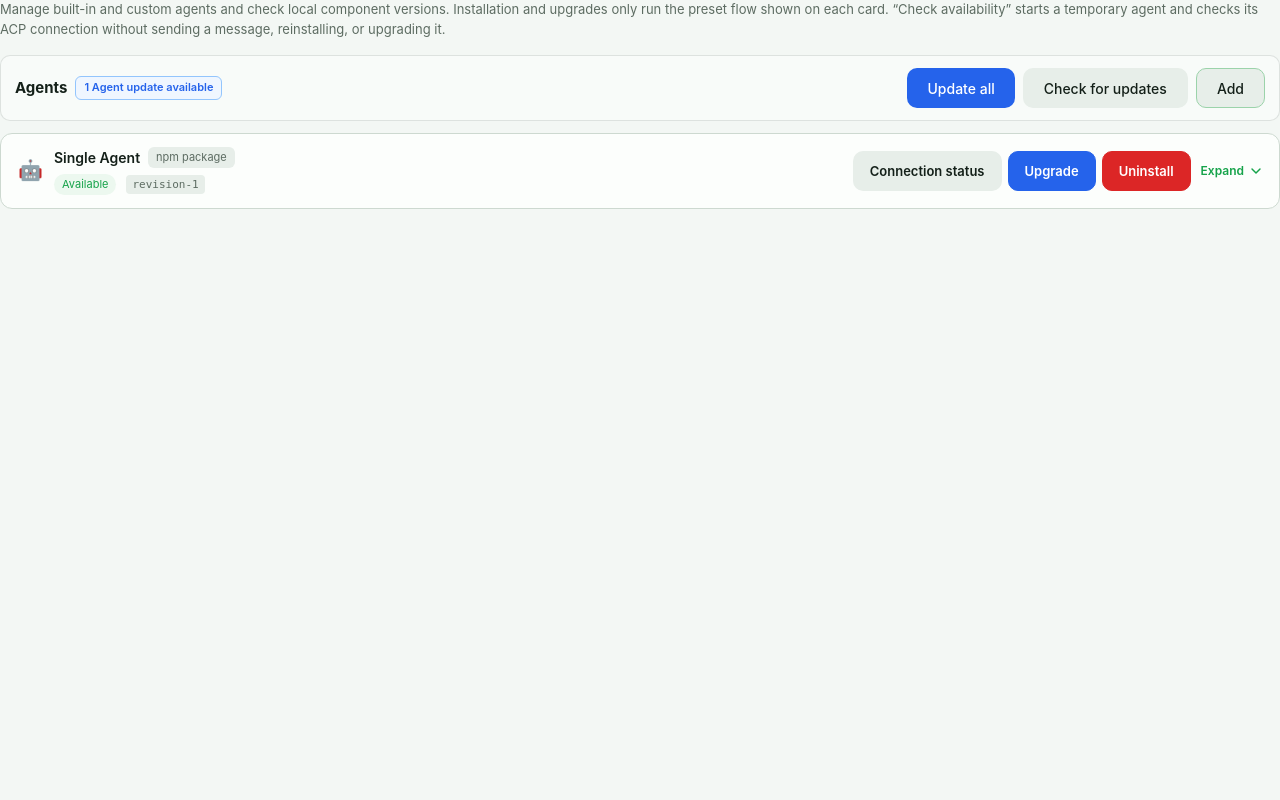
Test: AgentInstallSettings batch upgrades › refreshes single upgrades after every outcome and replaces stale results before a retry
Check: the text "Single Agent" is shown, box [54,147,140,169]
Click the button with test id "agent-install-card-toggle".
click(1232, 171)  # box [1201,163,1264,179]
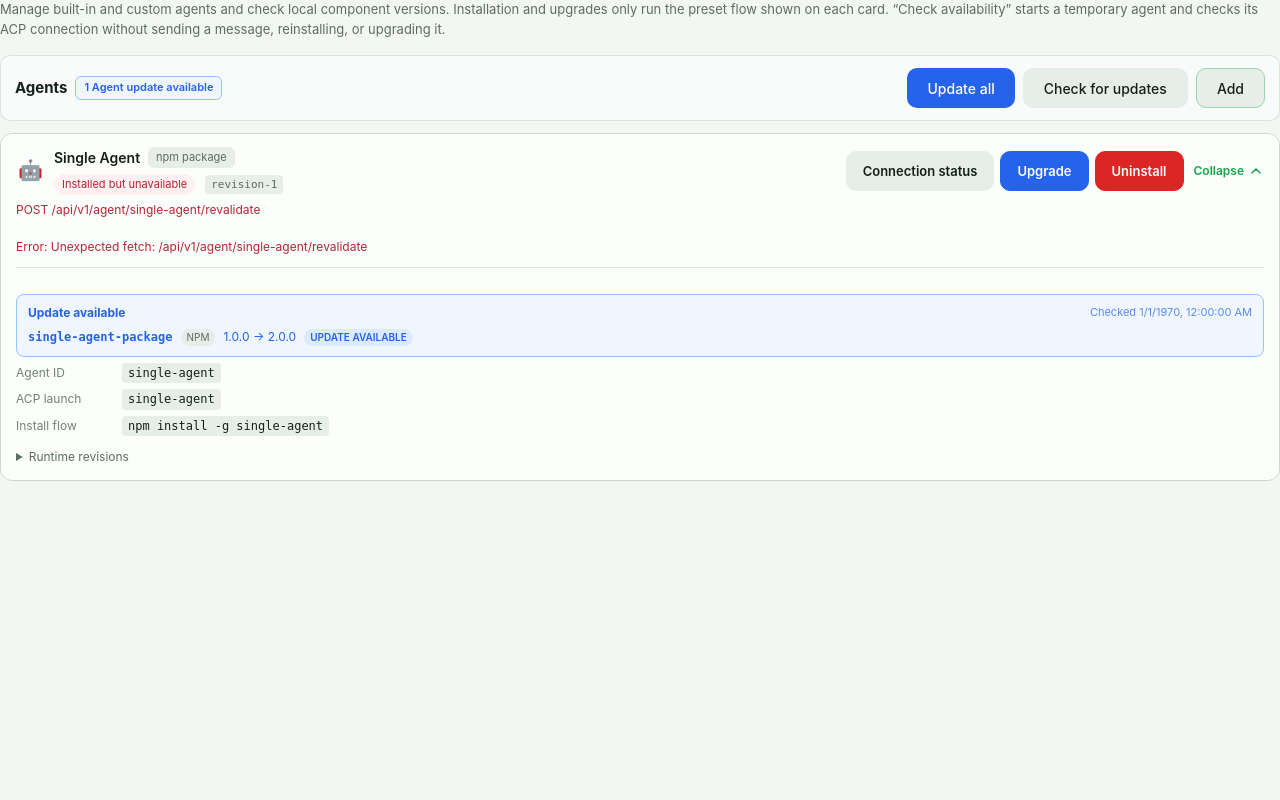
Check: the button with test id "agent-install-card-toggle" is expanded, box [1194,163,1264,179]
Click the button with test id "agent-upgrade-button".
click(1044, 171)  # box [1000,151,1088,191]
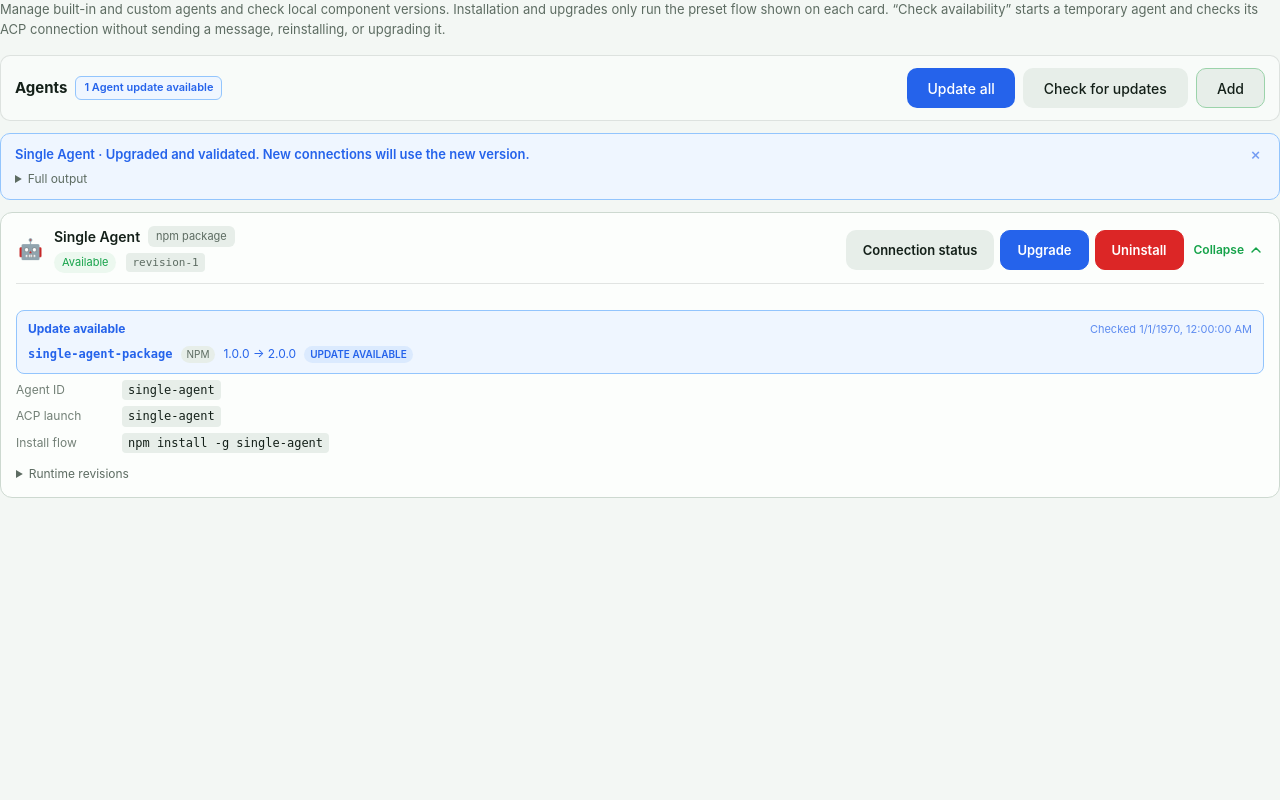
Check: the text "Single Agent · Upgraded and validated" is shown, box [15,144,530,164]
Click the button with test id "agent-upgrade-button".
click(1044, 250)  # box [1000,230,1088,270]
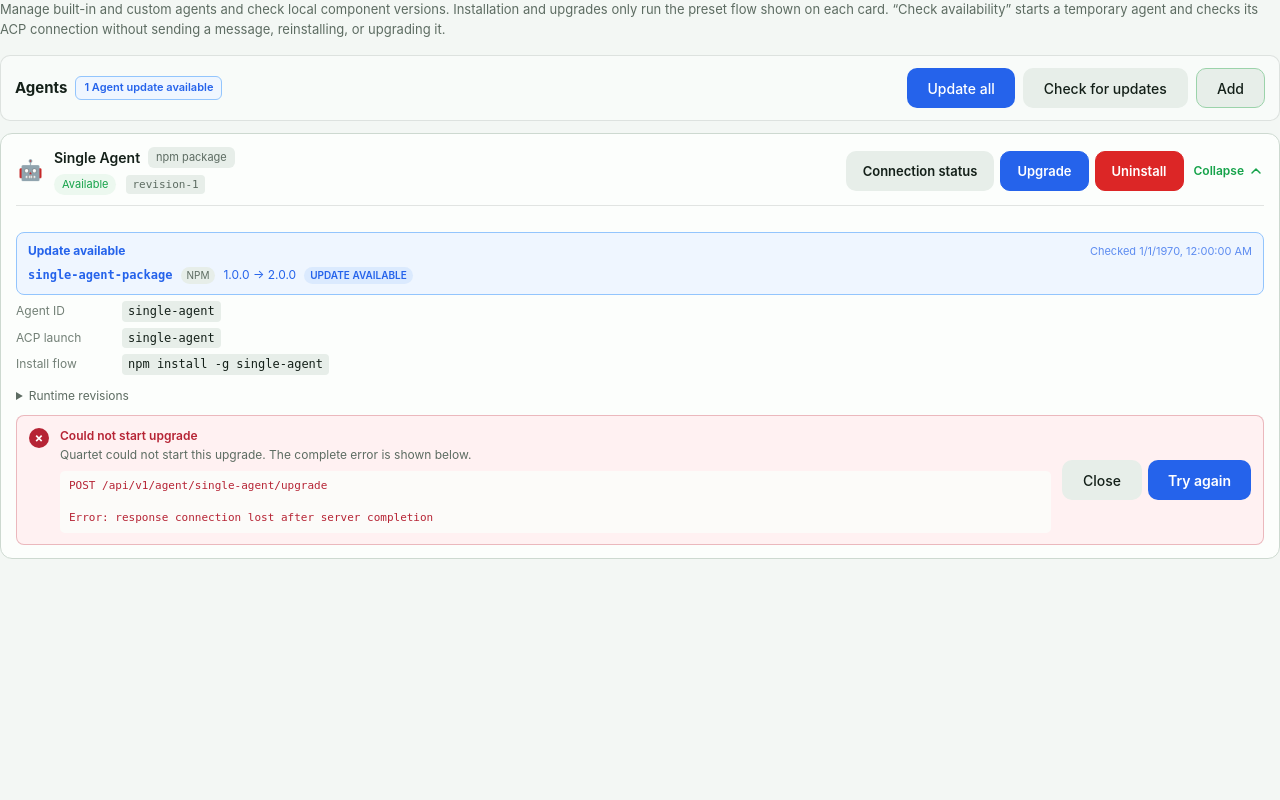
Check: the message with test id "agent-install-request-feedback" shows "response connection lost after server completion", box [69,479,433,524]
Check: the text "Single Agent · Upgraded and validated" is gone
Check: the button "Try again" is enabled, box [1148,460,1251,500]
Click the button with test id "agent-add-button".
click(1230, 88)  # box [1196,68,1265,108]
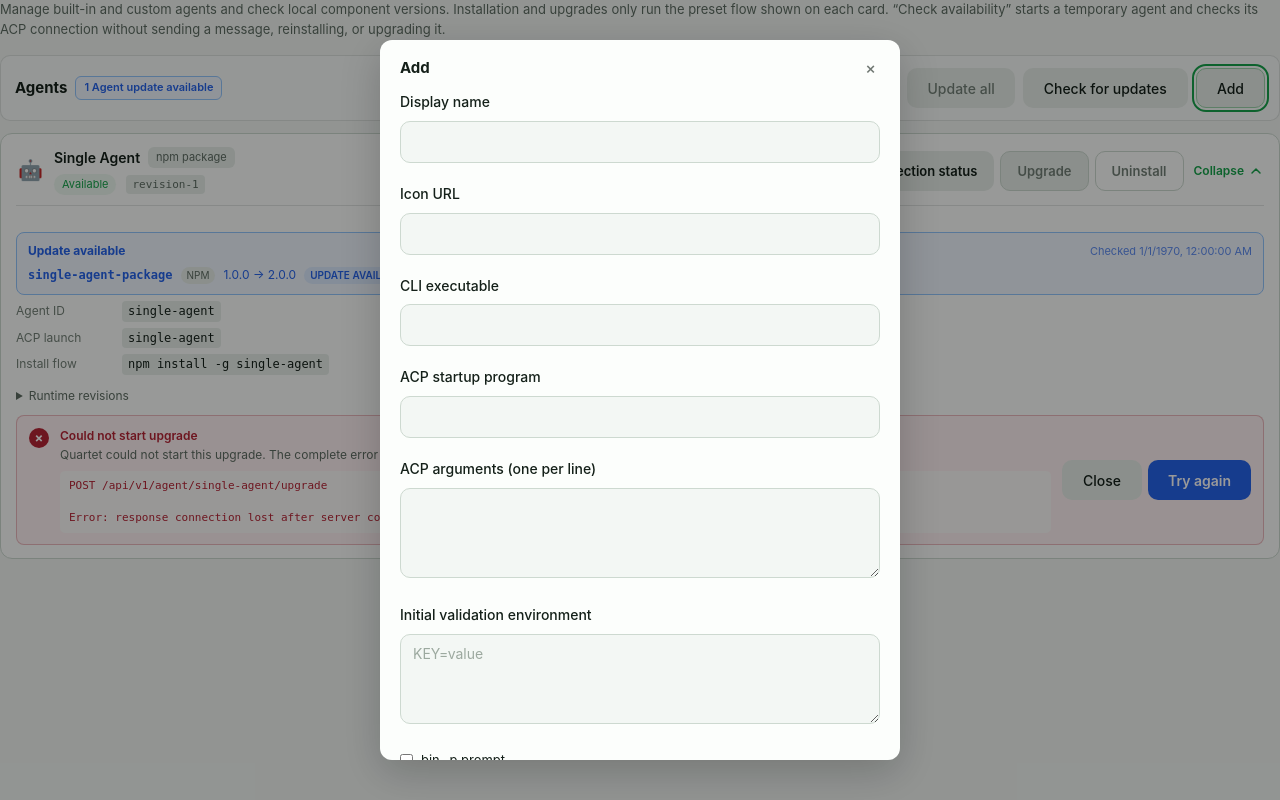
Check: the button "Try again" is disabled, box [1148,460,1251,500]
